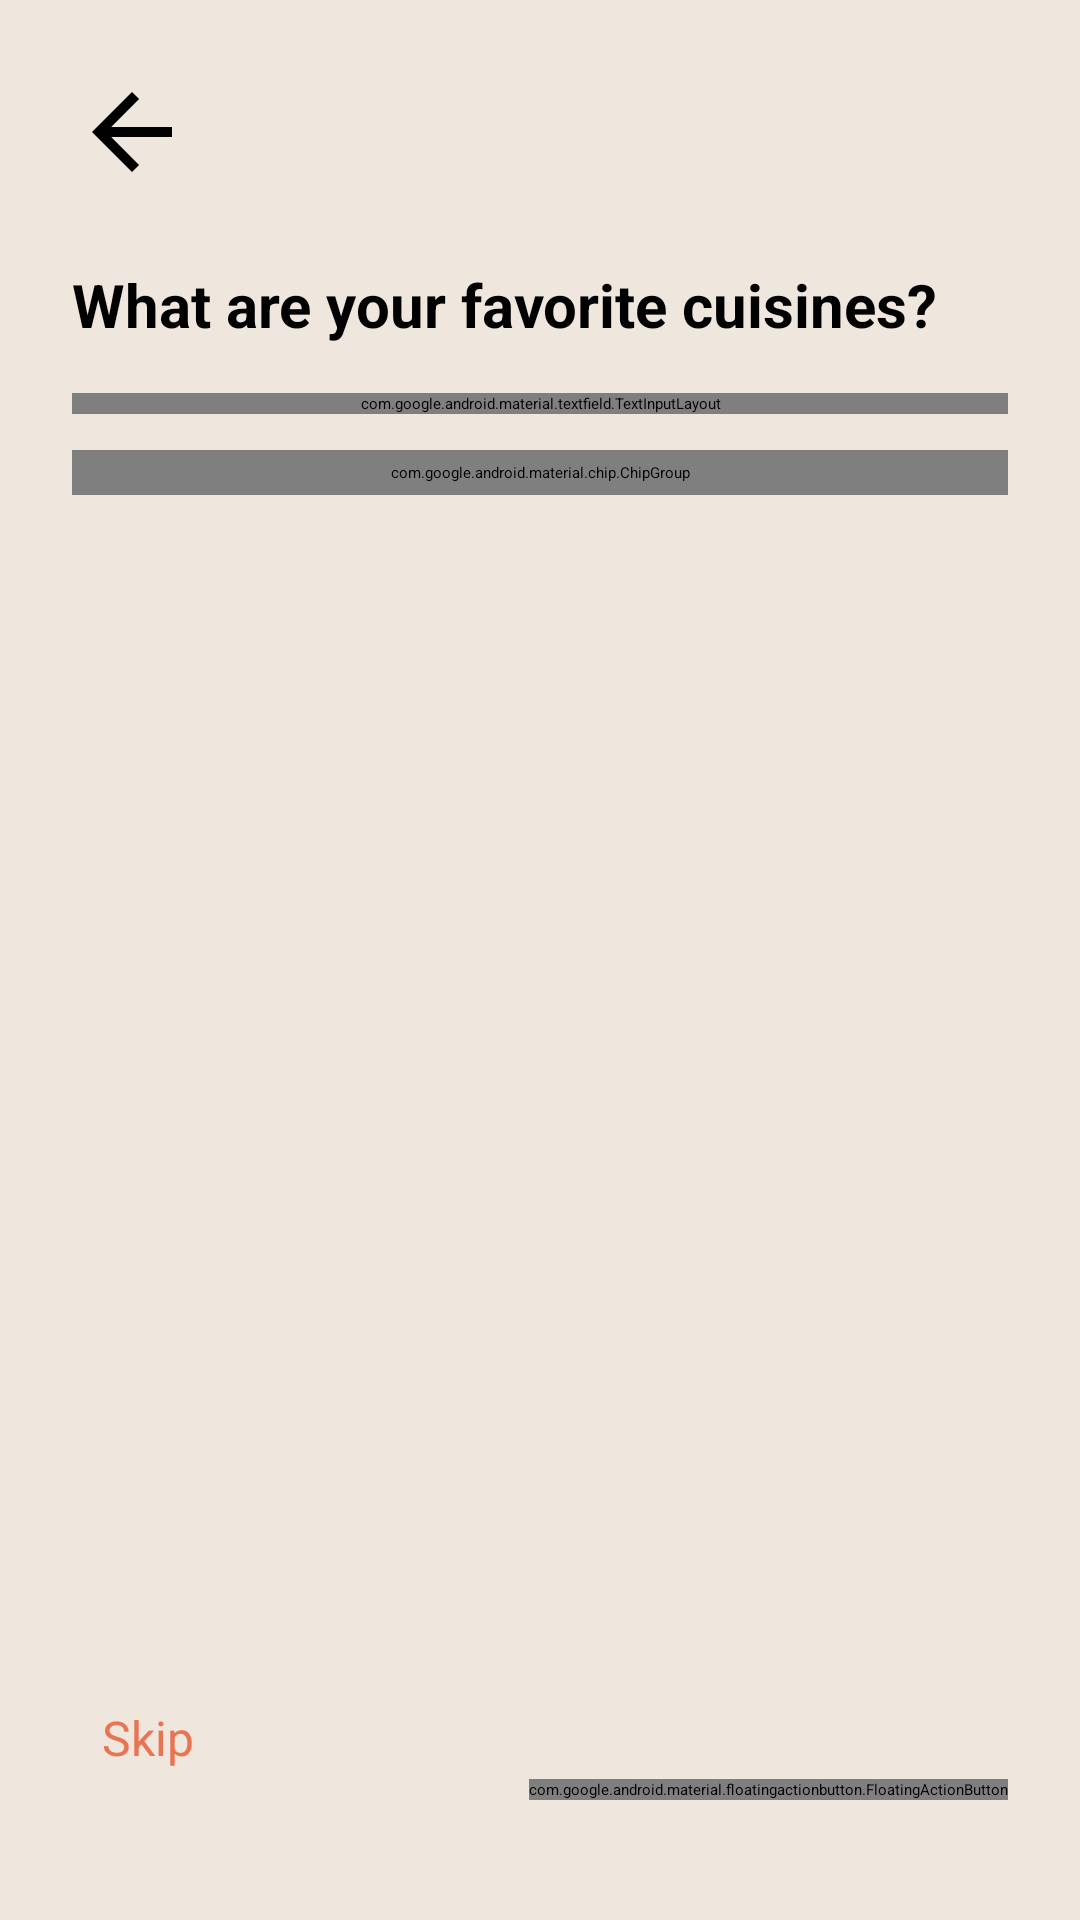

Named icons in this screenshot (1080*1920) and their centers, (x,y):
Back: (132,132)
